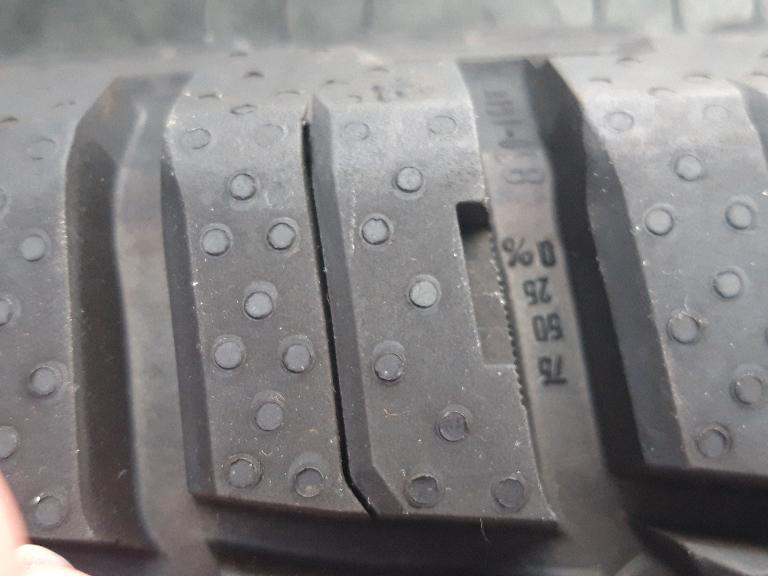temoin:100: (451, 193, 534, 414)
